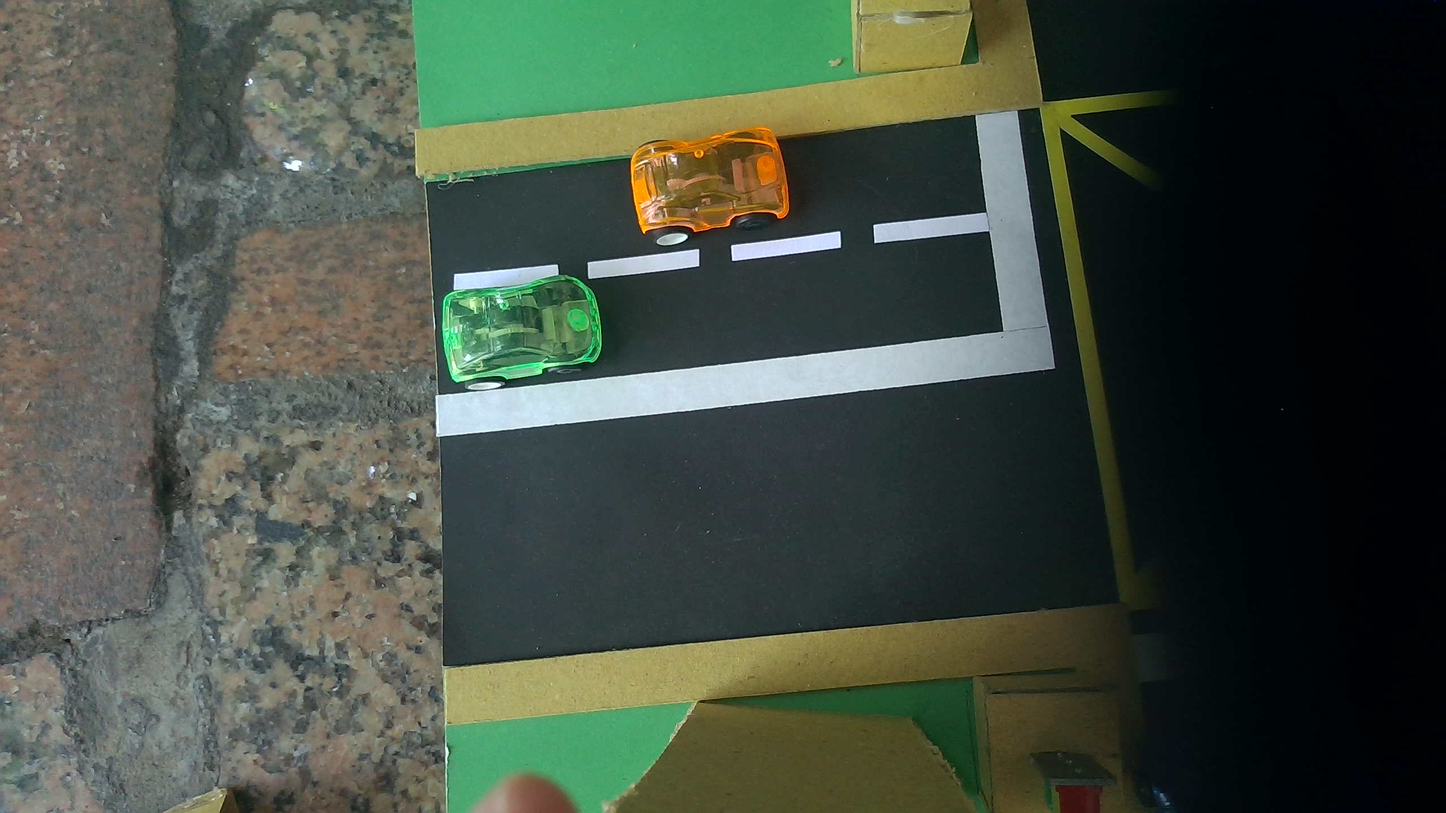Mobil hijau: (441, 276, 602, 389)
Mobil orange: (630, 127, 790, 246)
